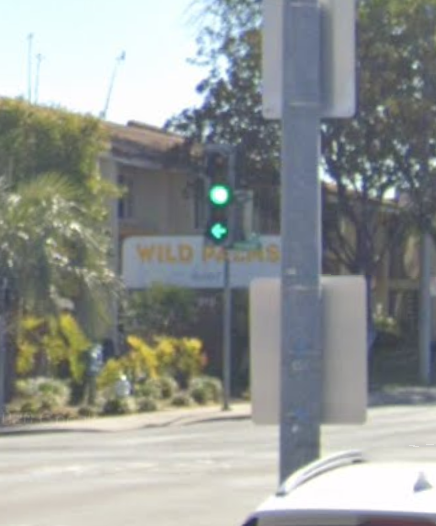green_light: (202, 147, 234, 211)
